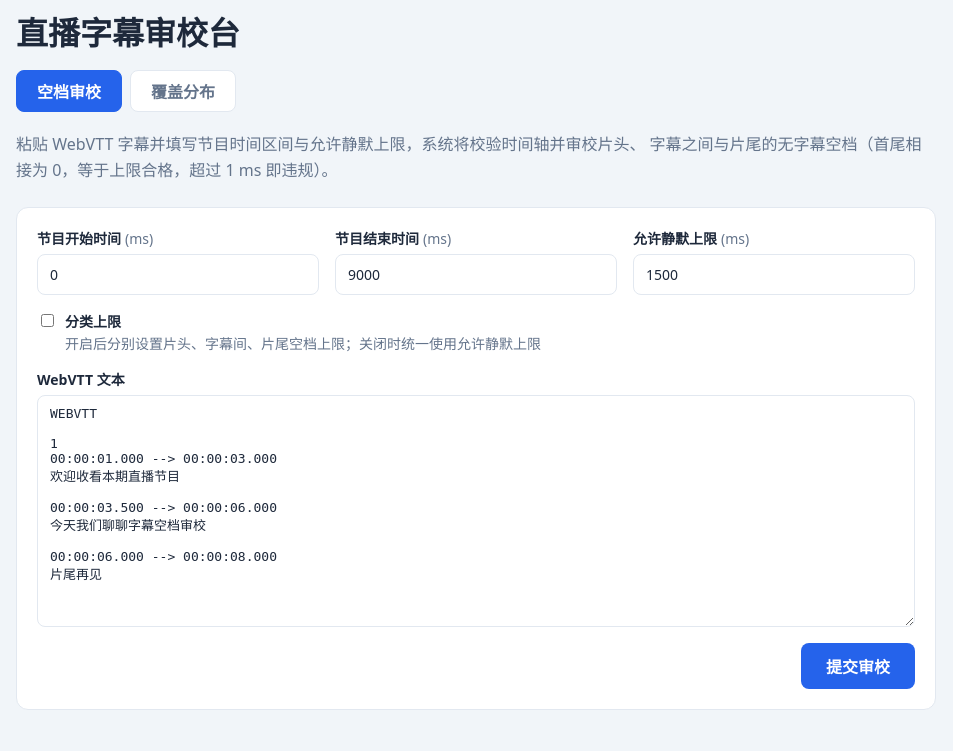
Test case: App page states › blocks submission locally when VTT content is empty
The image size is (953, 751).
Clear the text box with test id "input-vtt" at (476, 511), box x1=37 y1=395 x2=915 y2=627
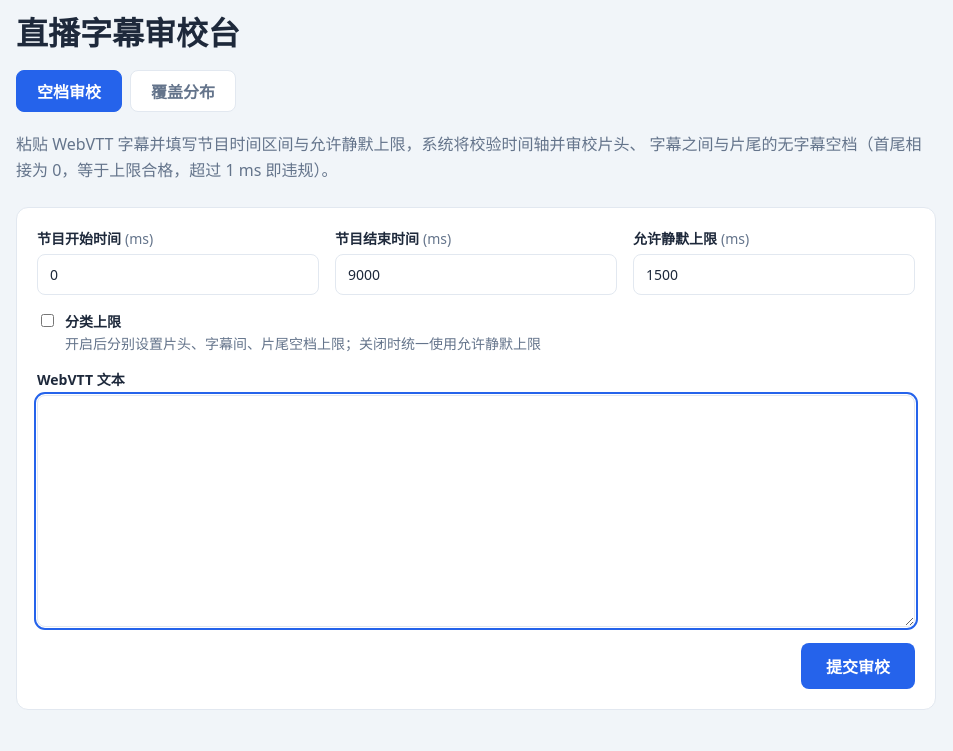
Click the button with test id "submit" at (858, 666), box x1=801 y1=643 x2=915 y2=689
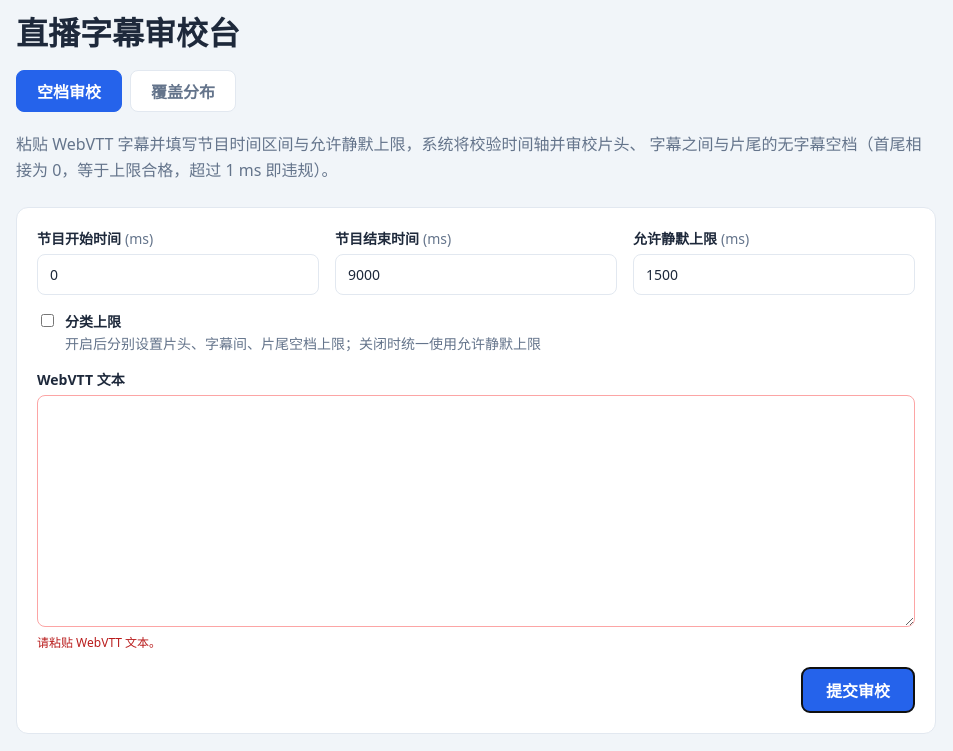
Check: the text "请粘贴 WebVTT 文本。" is shown, box x1=37 y1=634 x2=161 y2=651
